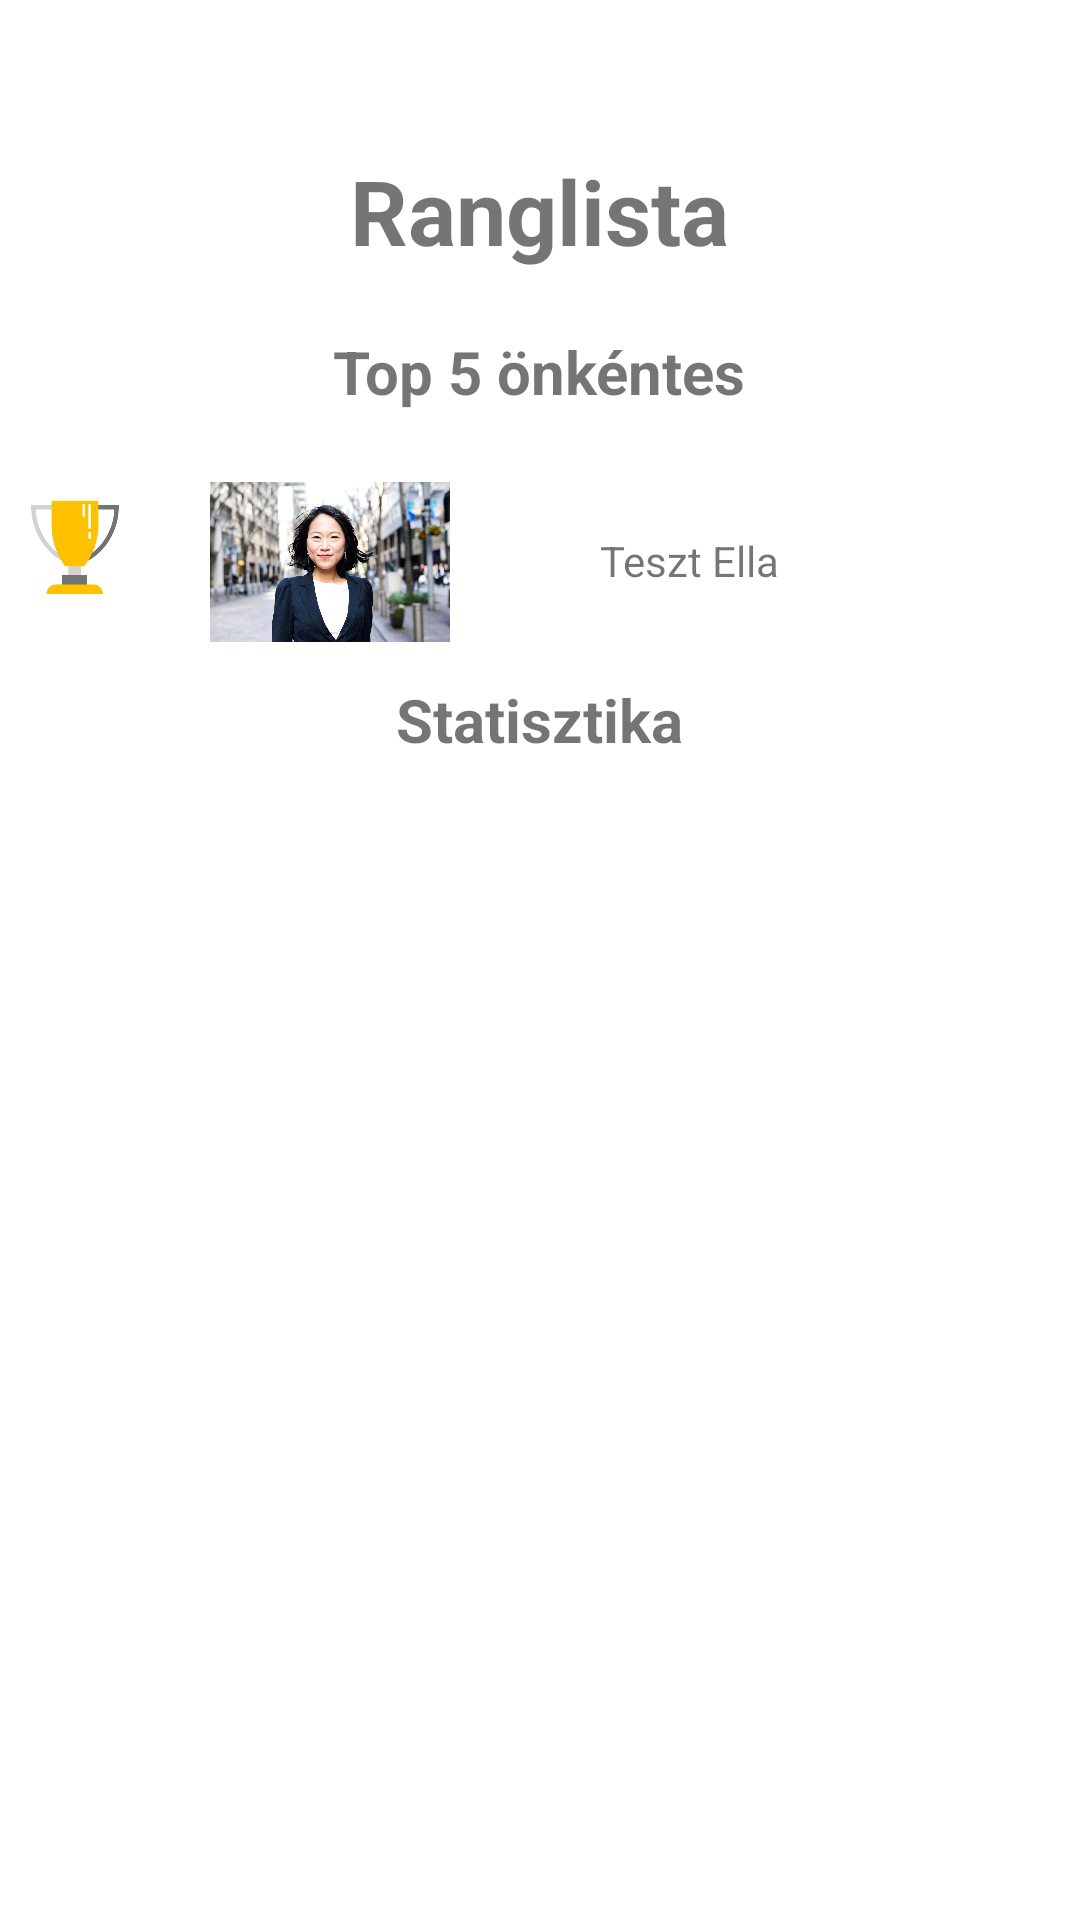

Named icons in this screenshot (1080 x 1920) and their centers, (x=x, y=y):
elso: (x=75, y=547)
tesztprofilkep: (x=330, y=562)
